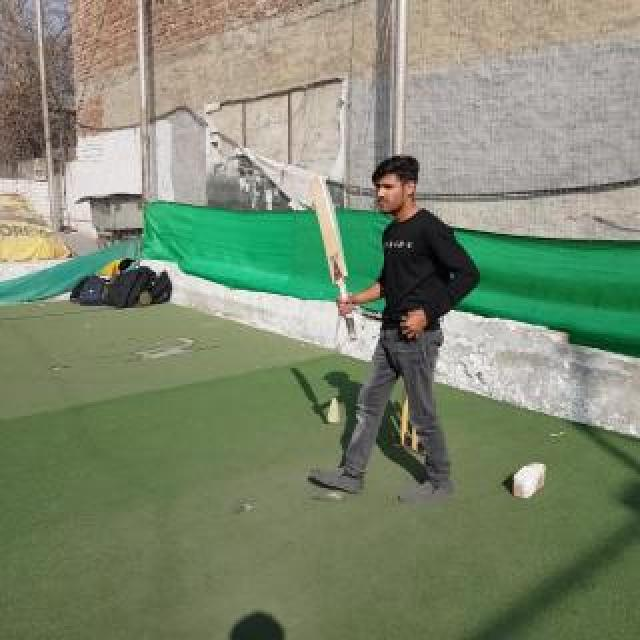bat: (312, 175, 356, 341)
